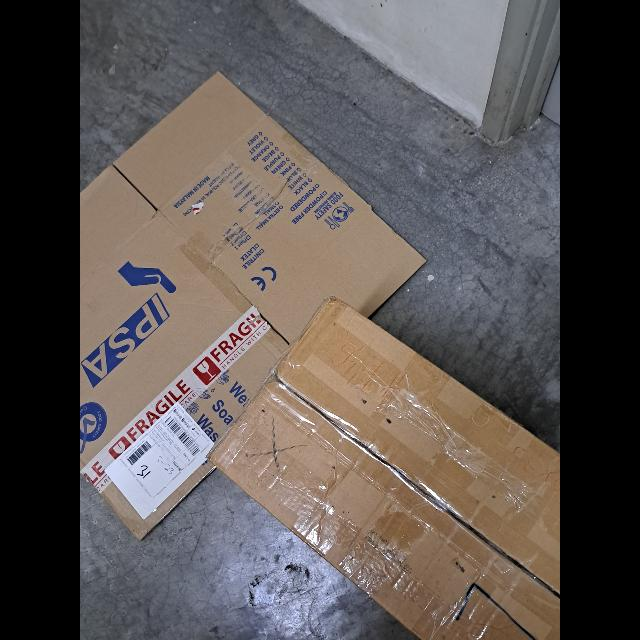papelão: (80, 69, 424, 543), (206, 296, 560, 640)
